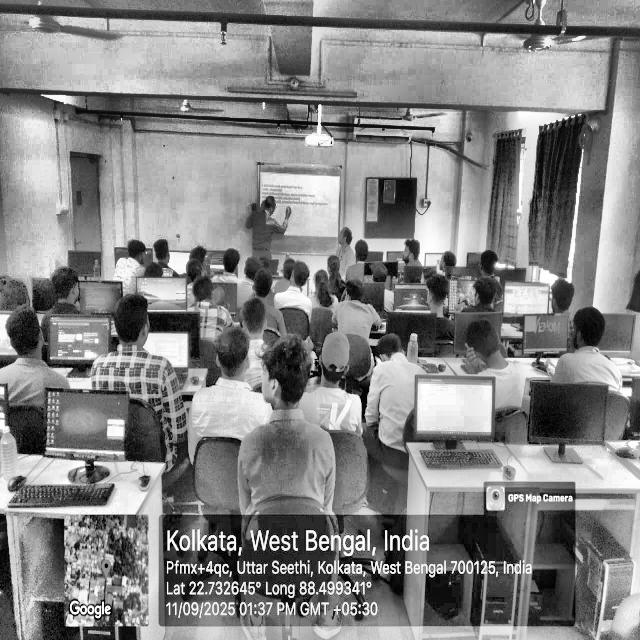Focus: (128, 231, 511, 381), (4, 306, 182, 364), (330, 224, 431, 287), (256, 176, 335, 241), (548, 299, 620, 369)
Not Focus: (260, 332, 330, 459), (449, 298, 578, 360), (348, 331, 421, 399)
